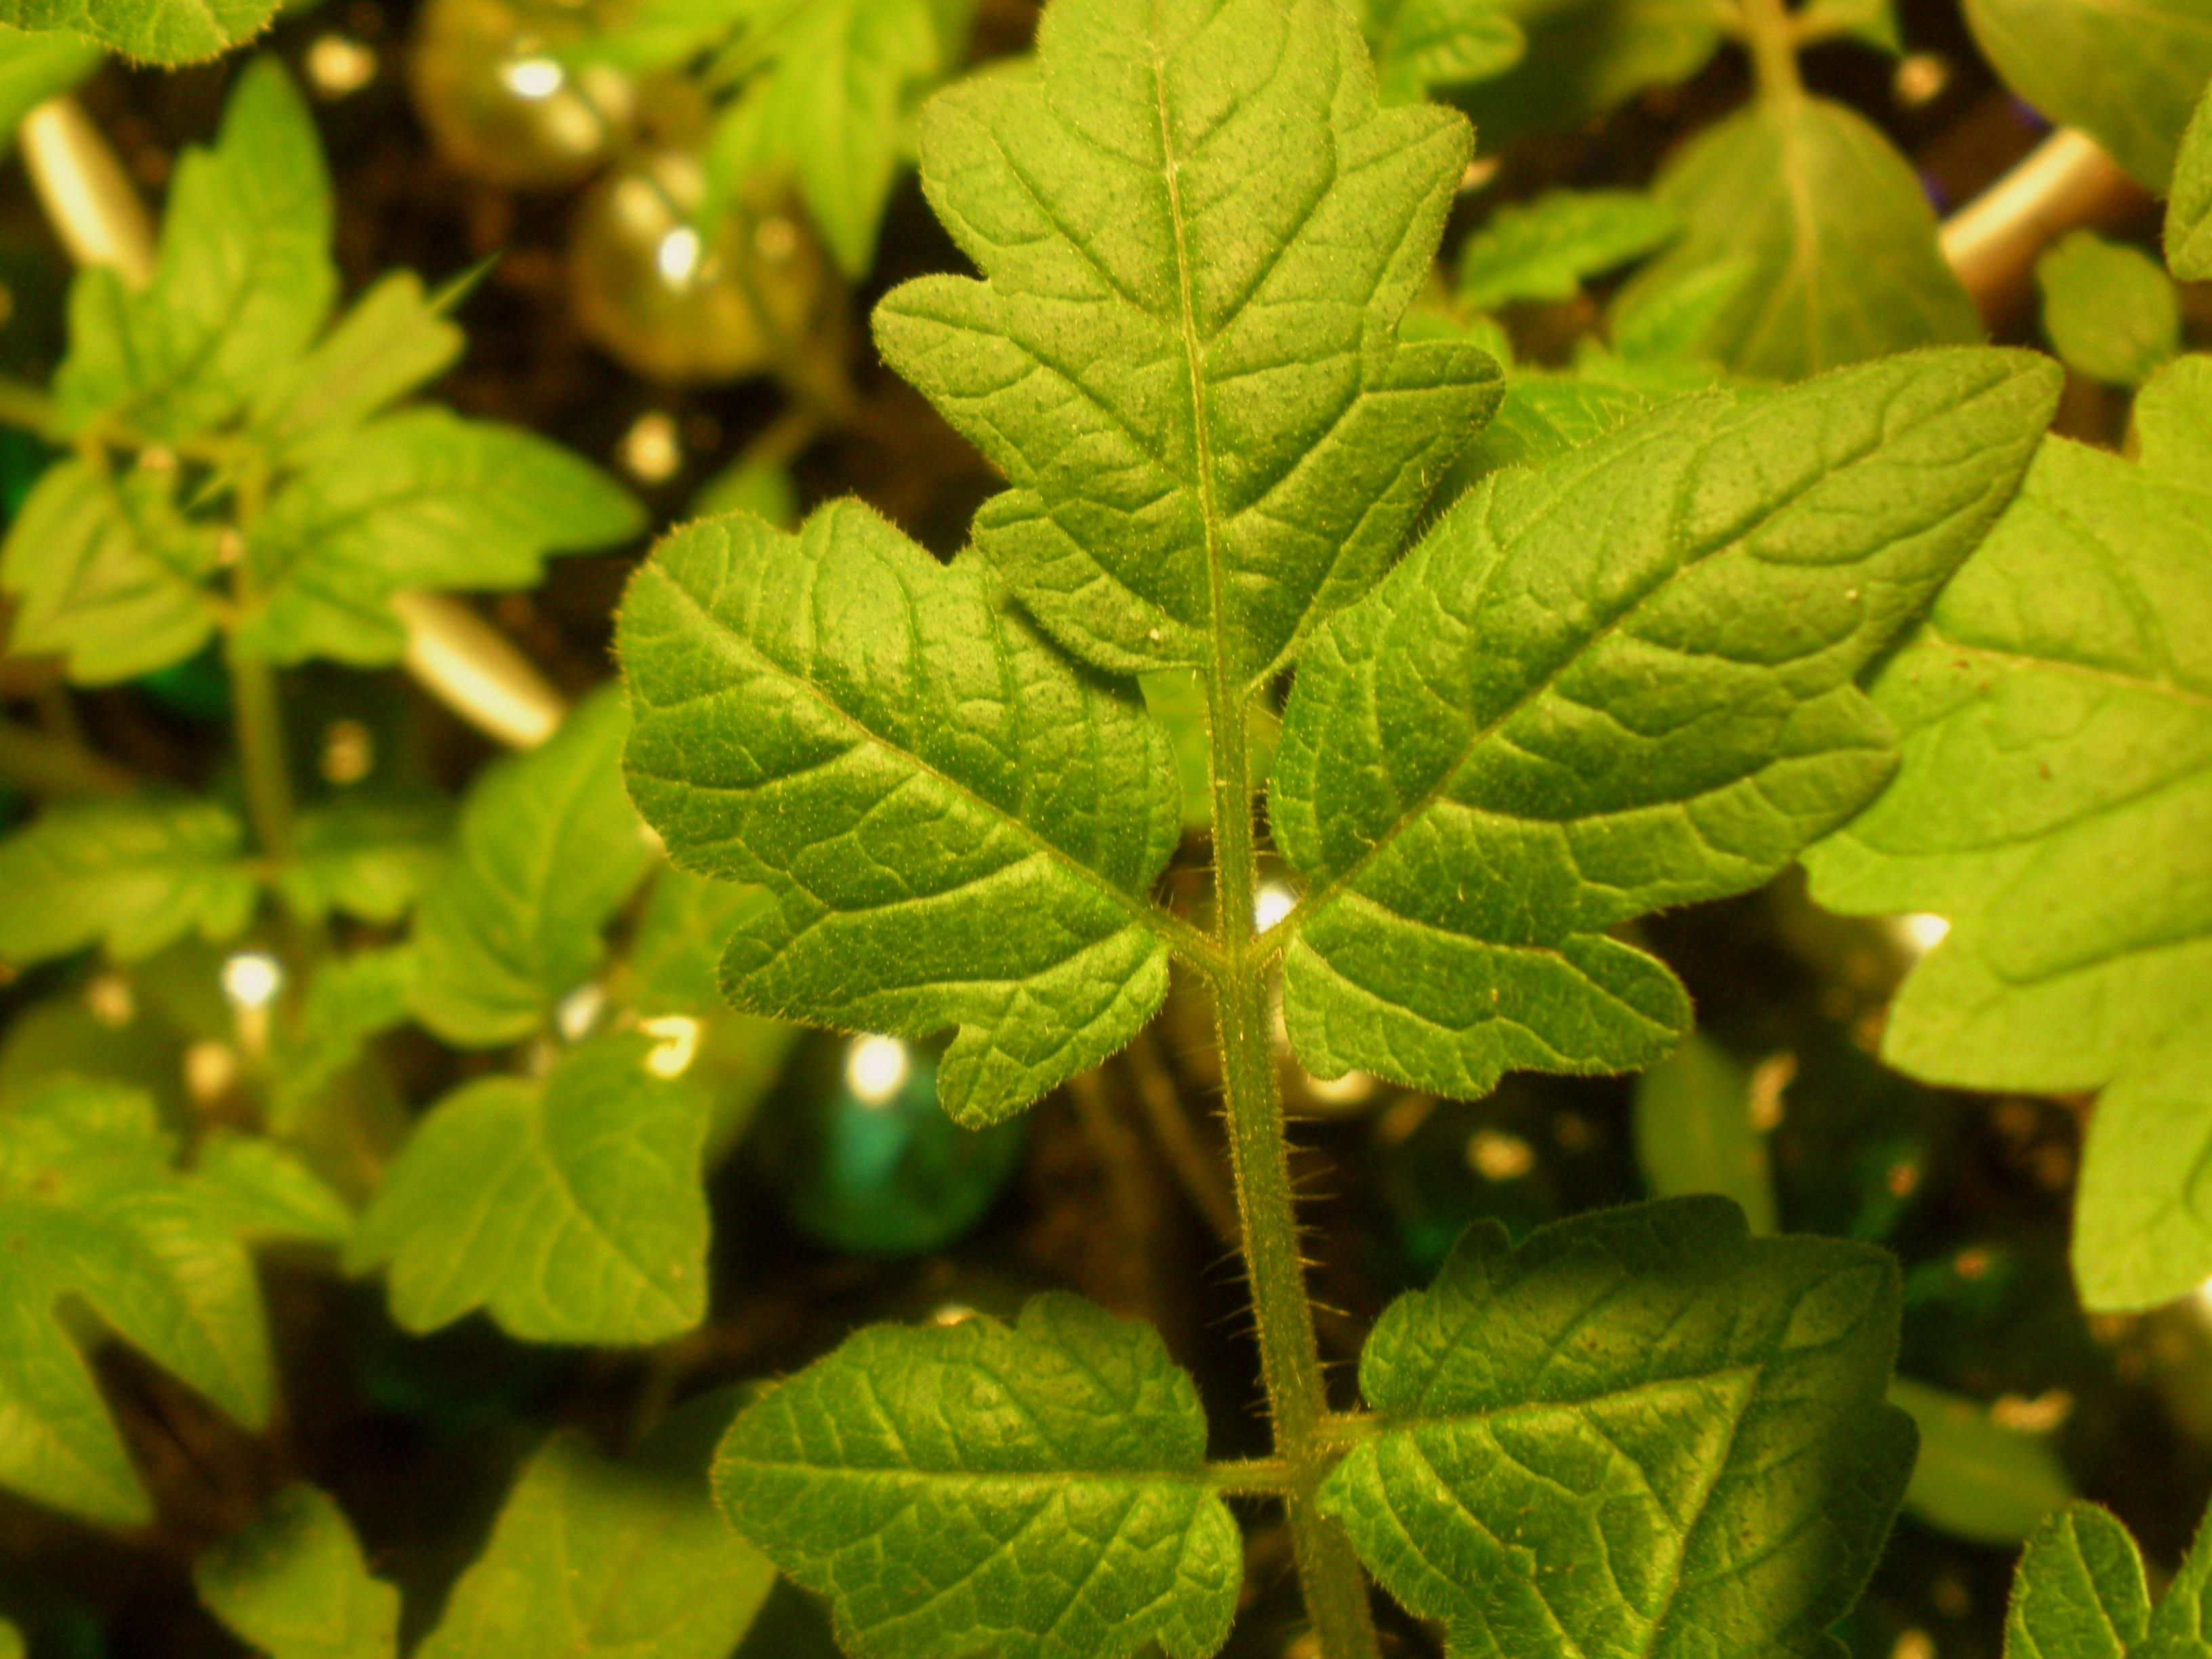Tomato leaf: (1084, 157, 2212, 1240), (462, 334, 1372, 1279), (732, 0, 1679, 784), (1217, 998, 1914, 1647), (615, 1105, 1355, 1659), (294, 935, 857, 1486), (147, 280, 676, 786), (297, 630, 776, 1093)
